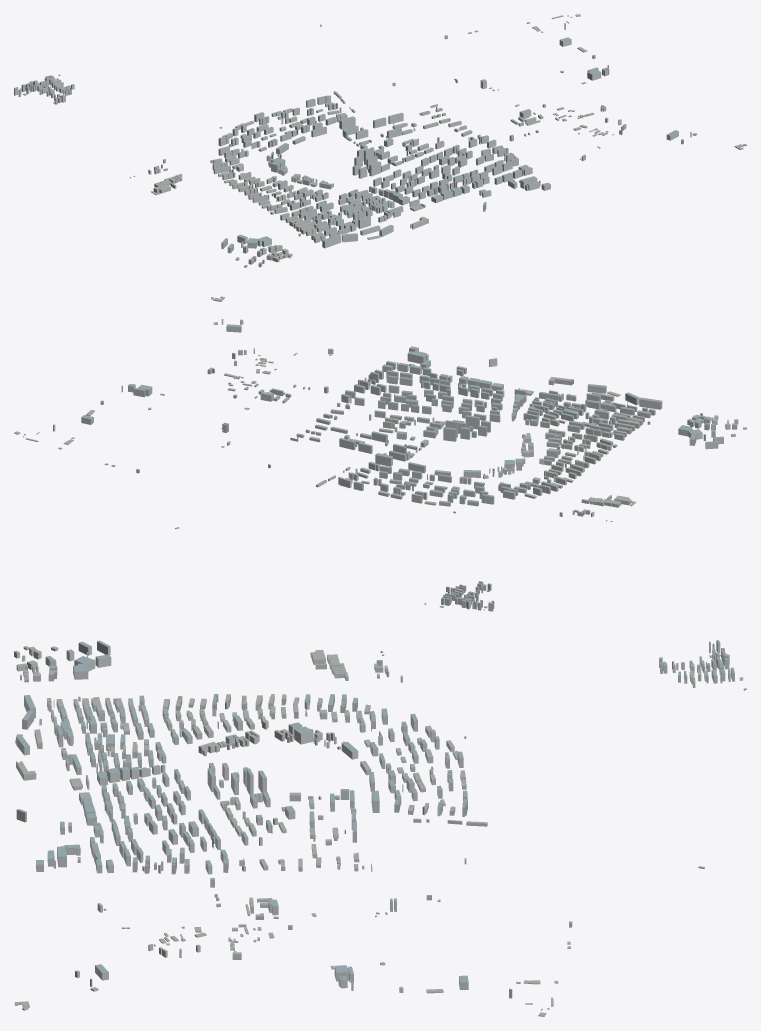
Rendered from far.glb.
3 renders of one model, top to bottom at view 1: azimuth 30°, elevation 25°; view 2: azimuth 150°, elevation 25°; view 3: azimuth 270°, elevation 25°, orthographic. The views are drawn at different scales.
Bounding box in the file's own units: 2106 × 55.09 × 1767.
